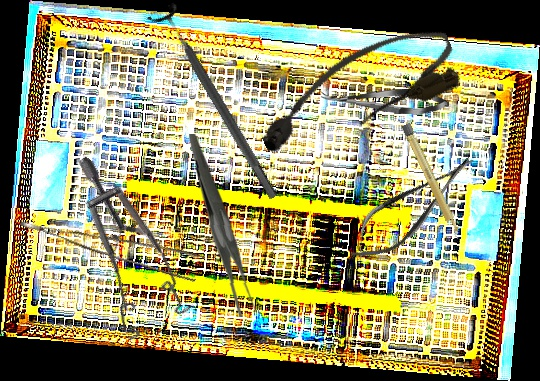Cannula: (244, 14, 468, 167)
Dressing Forceps: (185, 133, 261, 318)
Fixation Ring: (146, 0, 289, 207)
Micro Scissor: (336, 141, 489, 274), (320, 84, 450, 117)
Scalpel Handle: (400, 122, 462, 238)
Speculum: (11, 155, 227, 359)
Tissue Forceps: (19, 191, 205, 291)
